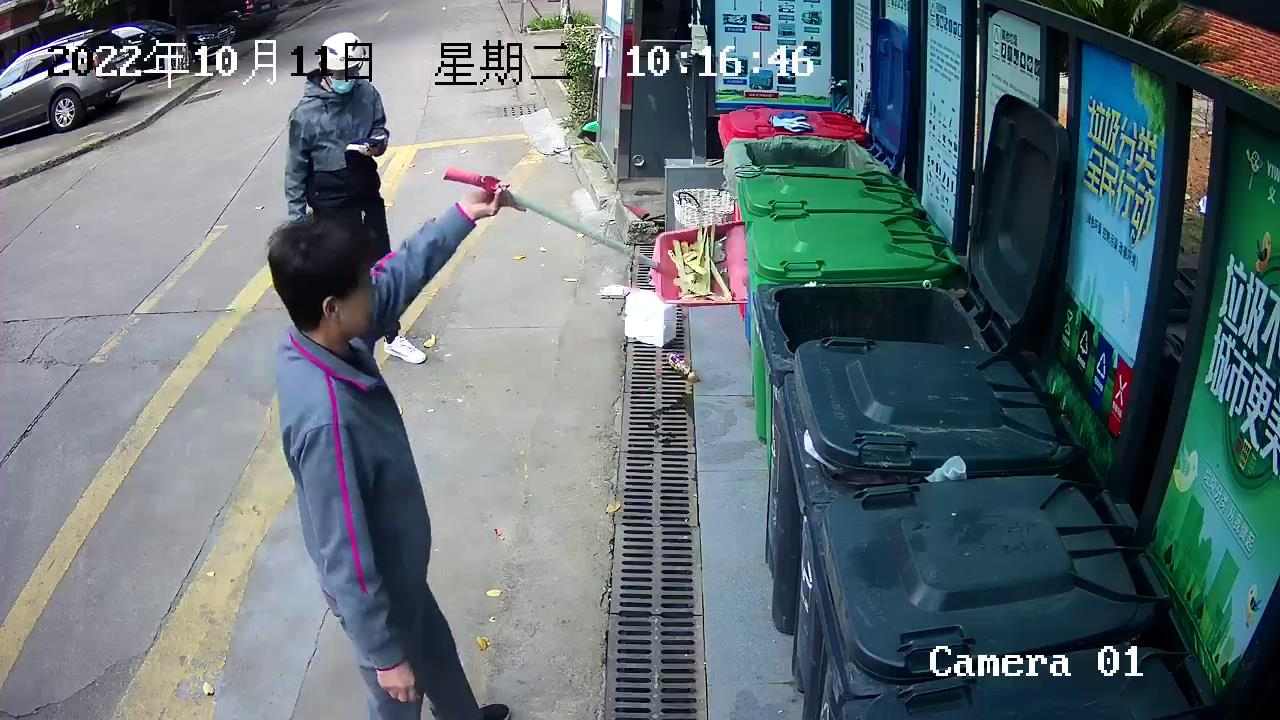person: (261, 24, 527, 720)
suliaozhipin: (662, 346, 702, 388)
zhizhipin: (620, 285, 683, 351)
